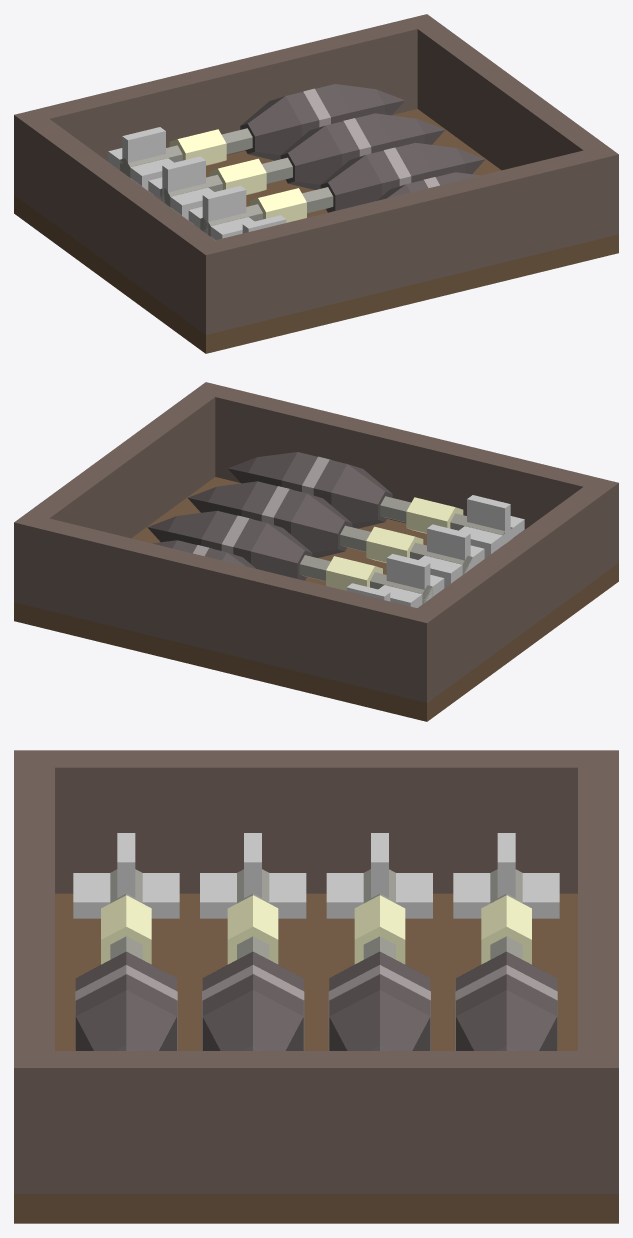
Rendered from ce_ammo_mortar_deadlife_c.obj.
3 views of the same model, one above another, from view 1: azimuth 30°, elevation 25°; view 2: azimuth 150°, elevation 25°; view 3: azimuth 270°, elevation 25° (orthographic). The views are drawn at different scales.
Parts seen in each view (by area): view 1: ce_ammo_mortar_deadlife_c_3, ce_ammo_mortar_deadlife_c_1, ce_ammo_mortar_deadlife_c_4, ce_ammo_mortar_deadlife_c_2, ce_ammo_mortar_deadlife_c_0, ce_ammo_mortar_deadlife_c_37, ce_ammo_mortar_deadlife_c_27, ce_ammo_mortar_deadlife_c_17, ce_ammo_mortar_deadlife_c_36, ce_ammo_mortar_deadlife_c_24, ce_ammo_mortar_deadlife_c_26, ce_ammo_mortar_deadlife_c_34 (+20 smaller); view 2: ce_ammo_mortar_deadlife_c_4, ce_ammo_mortar_deadlife_c_1, ce_ammo_mortar_deadlife_c_3, ce_ammo_mortar_deadlife_c_2, ce_ammo_mortar_deadlife_c_0, ce_ammo_mortar_deadlife_c_7, ce_ammo_mortar_deadlife_c_17, ce_ammo_mortar_deadlife_c_27, ce_ammo_mortar_deadlife_c_14, ce_ammo_mortar_deadlife_c_6, ce_ammo_mortar_deadlife_c_16, ce_ammo_mortar_deadlife_c_26 (+20 smaller); view 3: ce_ammo_mortar_deadlife_c_2, ce_ammo_mortar_deadlife_c_1, ce_ammo_mortar_deadlife_c_0, ce_ammo_mortar_deadlife_c_3, ce_ammo_mortar_deadlife_c_4, ce_ammo_mortar_deadlife_c_21, ce_ammo_mortar_deadlife_c_31, ce_ammo_mortar_deadlife_c_11, ce_ammo_mortar_deadlife_c_41, ce_ammo_mortar_deadlife_c_13, ce_ammo_mortar_deadlife_c_43, ce_ammo_mortar_deadlife_c_23 (+25 smaller).
Boxes of the visible parts, left/top/right/bottom form: ce_ammo_mortar_deadlife_c_3: left=216, top=150, right=596, bottom=329; ce_ammo_mortar_deadlife_c_1: left=14, top=109, right=228, bottom=334; ce_ammo_mortar_deadlife_c_4: left=37, top=19, right=417, bottom=169; ce_ammo_mortar_deadlife_c_2: left=405, top=14, right=618, bottom=239; ce_ammo_mortar_deadlife_c_0: left=14, top=109, right=618, bottom=353; ce_ammo_mortar_deadlife_c_37: left=240, top=96, right=301, bottom=160; ce_ammo_mortar_deadlife_c_27: left=280, top=125, right=341, bottom=189; ce_ammo_mortar_deadlife_c_17: left=320, top=155, right=381, bottom=212; ce_ammo_mortar_deadlife_c_36: left=169, top=129, right=226, bottom=165; ce_ammo_mortar_deadlife_c_24: left=202, top=186, right=246, bottom=240; ce_ammo_mortar_deadlife_c_26: left=209, top=158, right=266, bottom=194; ce_ammo_mortar_deadlife_c_34: left=162, top=156, right=205, bottom=224; ce_ammo_mortar_deadlife_c_4: left=36, top=518, right=416, bottom=697; ce_ammo_mortar_deadlife_c_1: left=404, top=477, right=618, bottom=702; ce_ammo_mortar_deadlife_c_3: left=215, top=387, right=595, bottom=537; ce_ammo_mortar_deadlife_c_2: left=14, top=382, right=227, bottom=607; ce_ammo_mortar_deadlife_c_0: left=14, top=477, right=618, bottom=721; ce_ammo_mortar_deadlife_c_7: left=331, top=464, right=392, bottom=528; ce_ammo_mortar_deadlife_c_17: left=291, top=493, right=352, bottom=557; ce_ammo_mortar_deadlife_c_27: left=251, top=523, right=312, bottom=580; ce_ammo_mortar_deadlife_c_14: left=467, top=495, right=510, bottom=562; ce_ammo_mortar_deadlife_c_6: left=406, top=497, right=463, bottom=533; ce_ammo_mortar_deadlife_c_16: left=366, top=526, right=423, bottom=562; ce_ammo_mortar_deadlife_c_26: left=326, top=556, right=382, bottom=590; ce_ammo_mortar_deadlife_c_2: left=14, top=1051, right=618, bottom=1193; ce_ammo_mortar_deadlife_c_1: left=14, top=750, right=618, bottom=893; ce_ammo_mortar_deadlife_c_0: left=14, top=893, right=618, bottom=1223; ce_ammo_mortar_deadlife_c_3: left=14, top=767, right=54, bottom=1050; ce_ammo_mortar_deadlife_c_4: left=578, top=767, right=618, bottom=1050; ce_ammo_mortar_deadlife_c_21: left=202, top=990, right=303, bottom=1050; ce_ammo_mortar_deadlife_c_31: left=329, top=990, right=430, bottom=1050; ce_ammo_mortar_deadlife_c_11: left=75, top=990, right=176, bottom=1050; ce_ammo_mortar_deadlife_c_41: left=456, top=990, right=557, bottom=1050; ce_ammo_mortar_deadlife_c_13: left=73, top=873, right=179, bottom=918; ce_ammo_mortar_deadlife_c_43: left=453, top=873, right=559, bottom=918; ce_ammo_mortar_deadlife_c_23: left=200, top=873, right=306, bottom=918.
Bounding box in the file's own units: 0.92 × 0.21 × 0.74.
